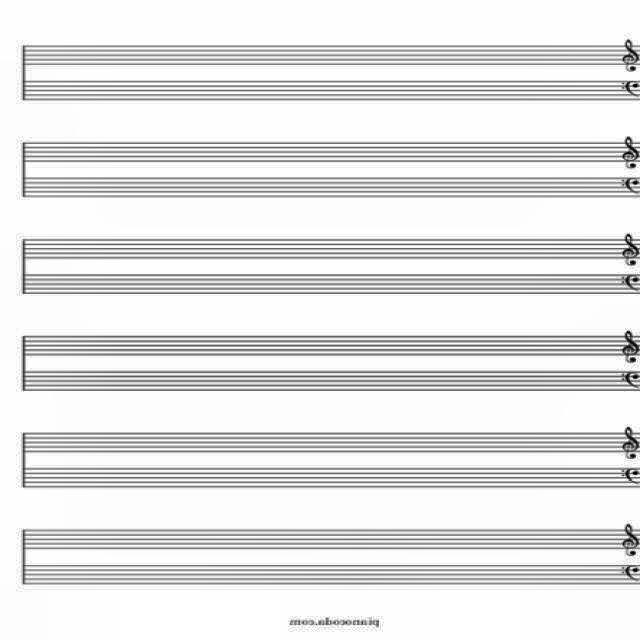Bass-clef: (620, 78, 640, 99), (620, 564, 640, 584), (620, 368, 640, 388), (620, 272, 640, 292), (620, 177, 640, 196), (623, 465, 640, 483), (639, 465, 640, 483)
Treble-clef: (620, 36, 640, 72), (620, 328, 640, 364), (620, 520, 640, 556), (620, 232, 640, 266), (623, 133, 640, 168), (623, 425, 640, 460), (639, 133, 640, 168), (639, 425, 640, 460)
